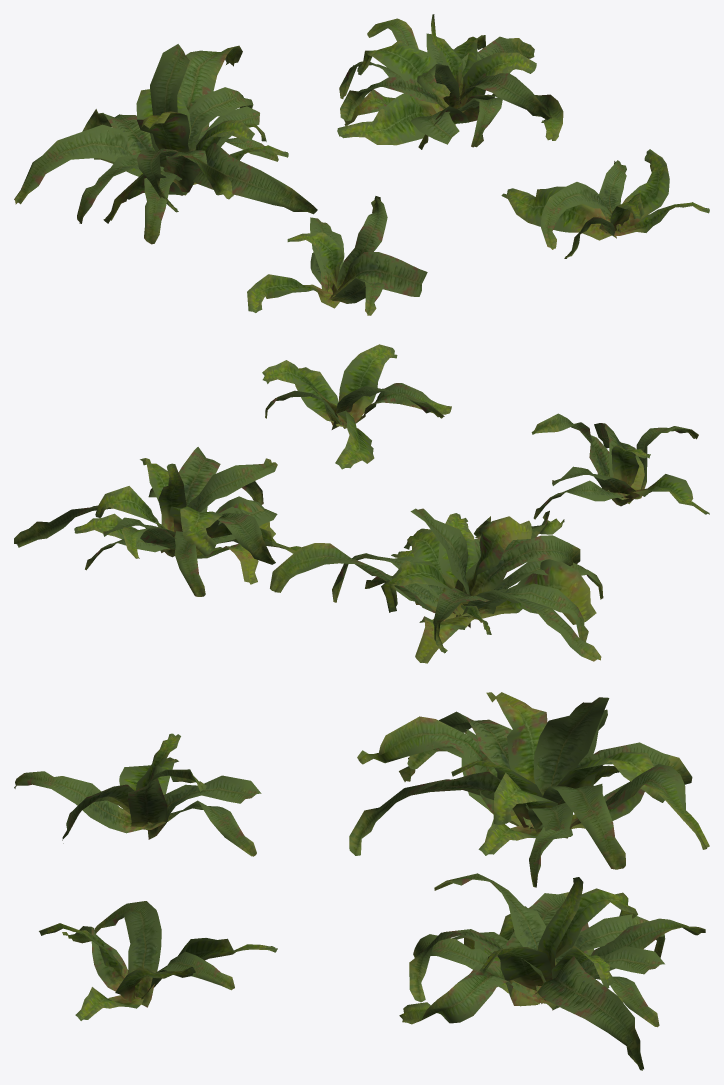
File: duong-xi.glb
3 views of the same model, one above another, from view 1: azimuth 30°, elevation 25°; view 2: azimuth 150°, elevation 25°; view 3: azimuth 270°, elevation 25° (orthographic). The views are drawn at different scales.
Visible parts, largest first — view 1: fern_02_b, fern_02_c, fern_02_d, fern_02_a; view 2: fern_02_b, fern_02_c, fern_02_d, fern_02_a; view 3: fern_02_b, fern_02_c, fern_02_a, fern_02_d.
Part boxes in pixels (<box>): fern_02_b: <box>14,44,317,244</box>; fern_02_c: <box>337,14,563,149</box>; fern_02_d: <box>501,149,709,258</box>; fern_02_a: <box>247,196,427,315</box>; fern_02_b: <box>270,508,603,663</box>; fern_02_c: <box>14,447,300,596</box>; fern_02_d: <box>262,344,451,469</box>; fern_02_a: <box>531,413,709,519</box>; fern_02_b: <box>349,692,709,887</box>; fern_02_c: <box>399,873,705,1070</box>; fern_02_a: <box>14,733,261,856</box>; fern_02_d: <box>39,901,277,1020</box>.
Bounding box in the file's own units: 1 × 0.2168 × 0.874.
1 material, 1 textured.
